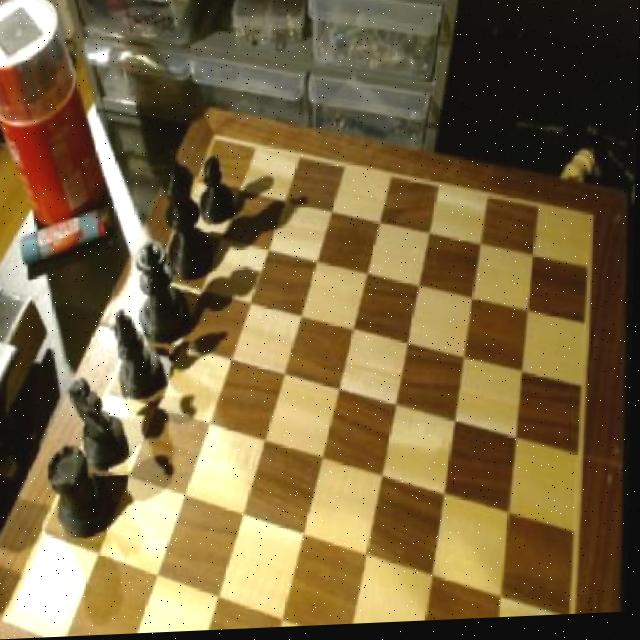bishop: (110, 309, 171, 407)
black-bishop: (160, 154, 214, 283)
black-king: (67, 375, 129, 476)
black-knight: (196, 149, 234, 233)
black-pawn: (132, 240, 190, 351)
black-queen: (44, 439, 111, 541)
